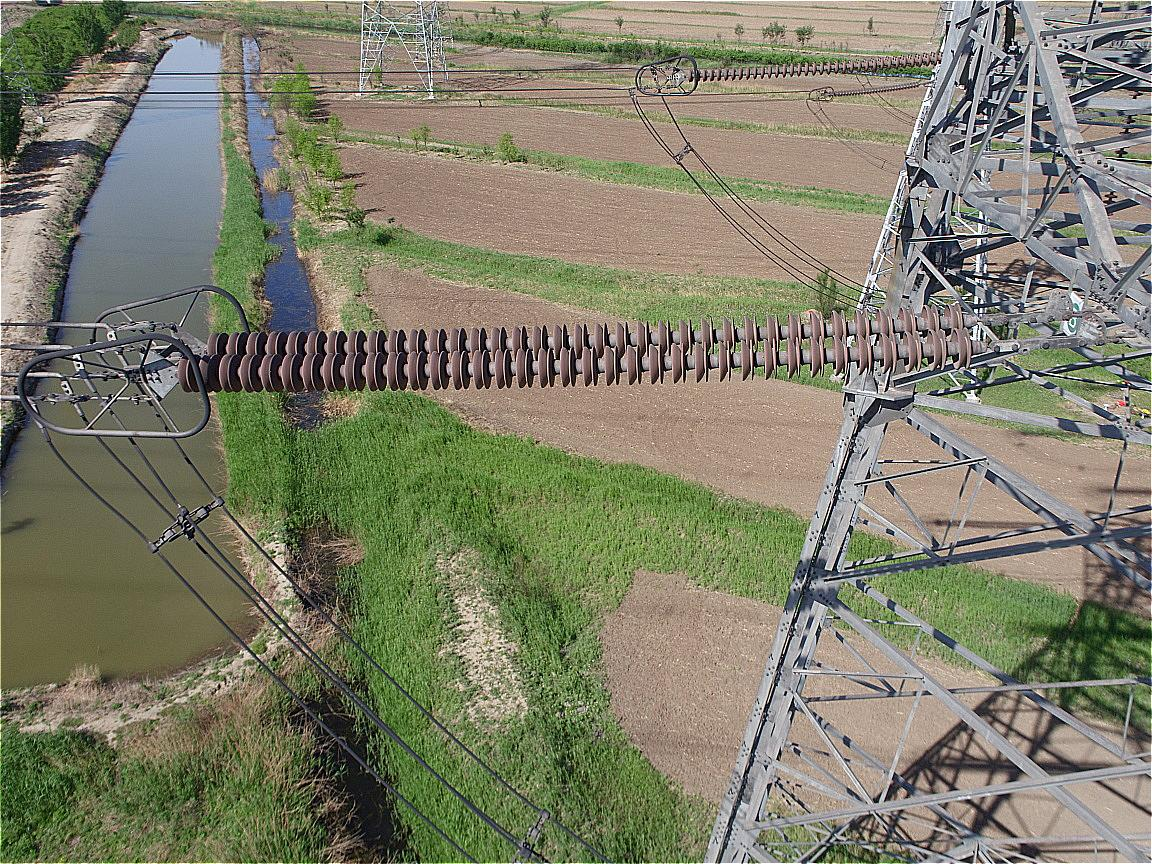insultor2: (158, 285, 1015, 405)
